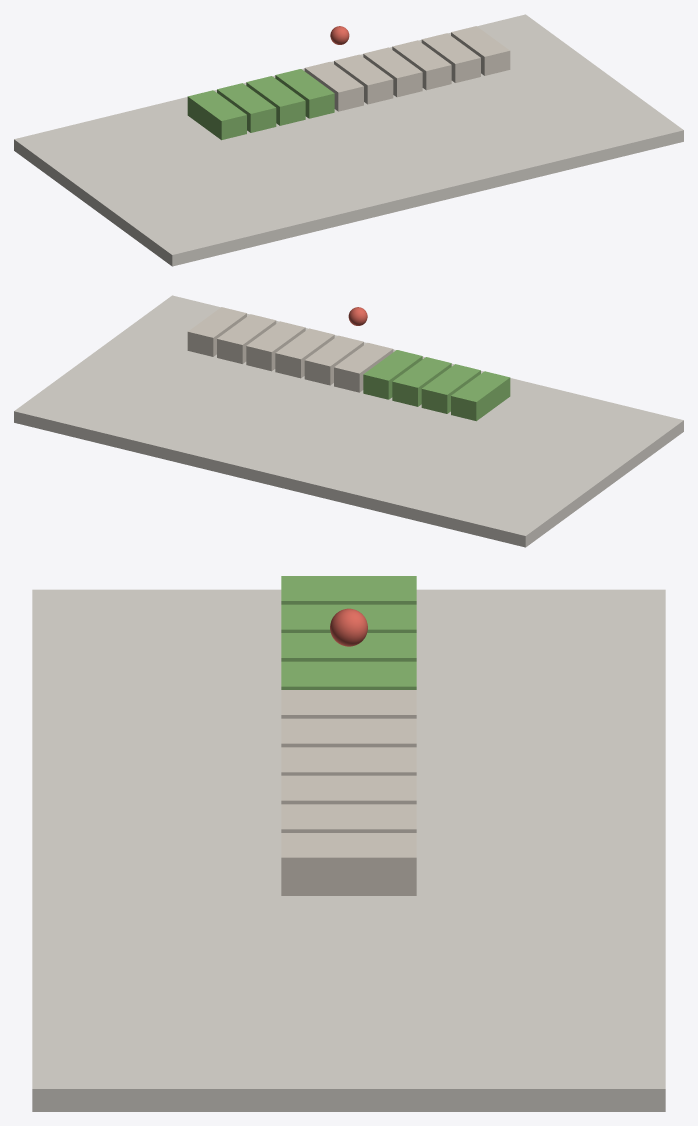
File: math-fractions-decimal.glb
3 views of the same model, one above another, from view 1: azimuth 30°, elevation 25°; view 2: azimuth 150°, elevation 25°; view 3: azimuth 270°, elevation 25° (orthographic). The views are drawn at different scales.
Visible parts, largest first — view 1: manipulative-base, tenths-block-1, tenths-block-6, tenths-block-2, tenths-block-5, tenths-block-8, tenths-block-9, tenths-block-10, tenths-block-3, tenths-block-4, tenths-block-7; view 2: manipulative-base, tenths-block-1, tenths-block-6, tenths-block-2, tenths-block-5, tenths-block-8, tenths-block-9, tenths-block-10, tenths-block-3, tenths-block-4, tenths-block-7; view 3: manipulative-base, tenths-block-10, tenths-block-6, tenths-block-8, tenths-block-1, tenths-block-4, tenths-block-5, tenths-block-7, tenths-block-9, tenths-block-3, tenths-block-2, decimal-point-marker.
Boxes of the visible parts, x1,y1,x2,y2 form: manipulative-base: (14,14,683,266); tenths-block-1: (187,90,246,140); tenths-block-6: (334,54,393,104); tenths-block-2: (217,83,276,132); tenths-block-5: (304,61,363,111); tenths-block-8: (392,40,451,90); tenths-block-9: (421,33,480,82); tenths-block-10: (451,26,510,75); tenths-block-3: (246,76,305,125); tenths-block-4: (275,69,334,118); tenths-block-7: (363,47,422,97); manipulative-base: (14,295,683,547); tenths-block-1: (451,371,510,421); tenths-block-6: (304,335,363,385); tenths-block-2: (421,364,480,413); tenths-block-5: (334,342,393,392); tenths-block-8: (246,321,305,371); tenths-block-9: (217,314,276,363); tenths-block-10: (187,307,246,356); tenths-block-3: (392,357,451,406); tenths-block-4: (363,350,422,399); tenths-block-7: (275,328,334,378); manipulative-base: (32,589,665,1111); tenths-block-10: (281,833,416,895); tenths-block-6: (281,718,416,747); tenths-block-8: (281,775,416,804); tenths-block-1: (281,576,416,604); tenths-block-4: (281,661,416,689); tenths-block-5: (281,690,416,718); tenths-block-7: (281,747,416,775); tenths-block-9: (281,804,416,832); tenths-block-3: (281,633,416,661); tenths-block-2: (281,604,416,632); decimal-point-marker: (330,608,367,646).
Size of what is drawn, in the model's own units: 2.8 by 0.635 by 1.5.
